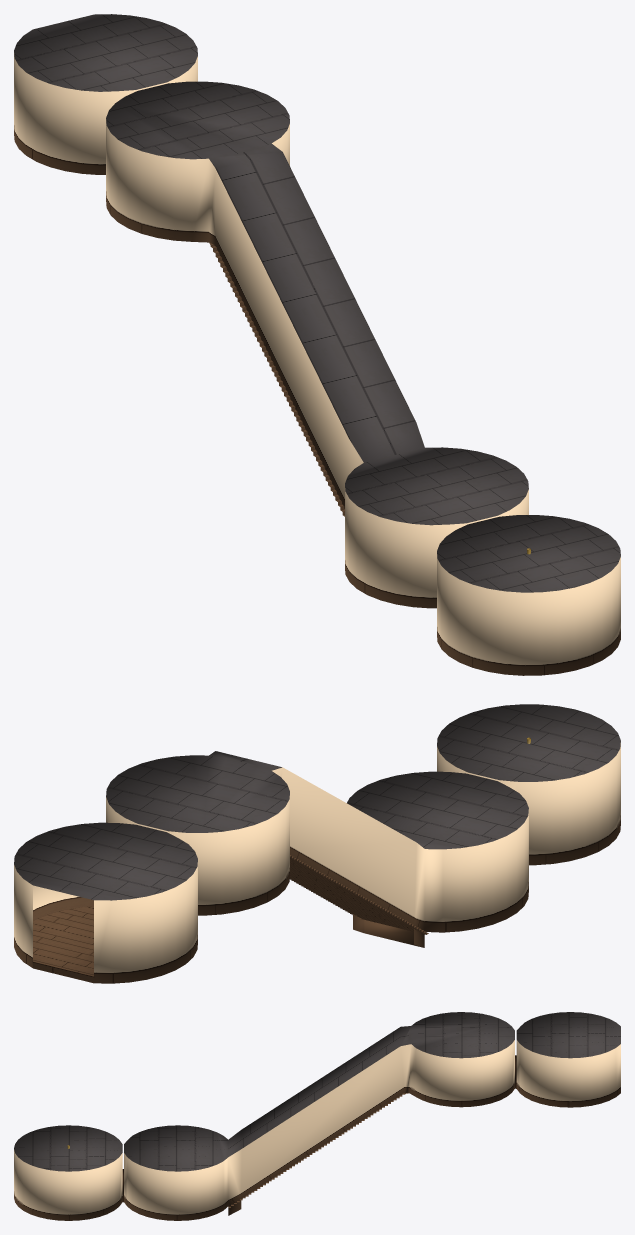
File: Rooms.fbx
The picture shows the model from 3 angles, top to bottom: view 1: azimuth 30°, elevation 25°; view 2: azimuth 150°, elevation 25°; view 3: azimuth 270°, elevation 25°; orthographic projection. The views are drawn at different scales.
Visible parts, largest first — view 1: Rooms; view 2: Rooms; view 3: Rooms.
Boxes of the visible parts, left/top/right/bottom form: Rooms: left=14, top=14, right=620, bottom=675; Rooms: left=14, top=704, right=620, bottom=983; Rooms: left=14, top=1012, right=620, bottom=1220.
Size of the model in its own units: 4860 by 8443 by 26957.
